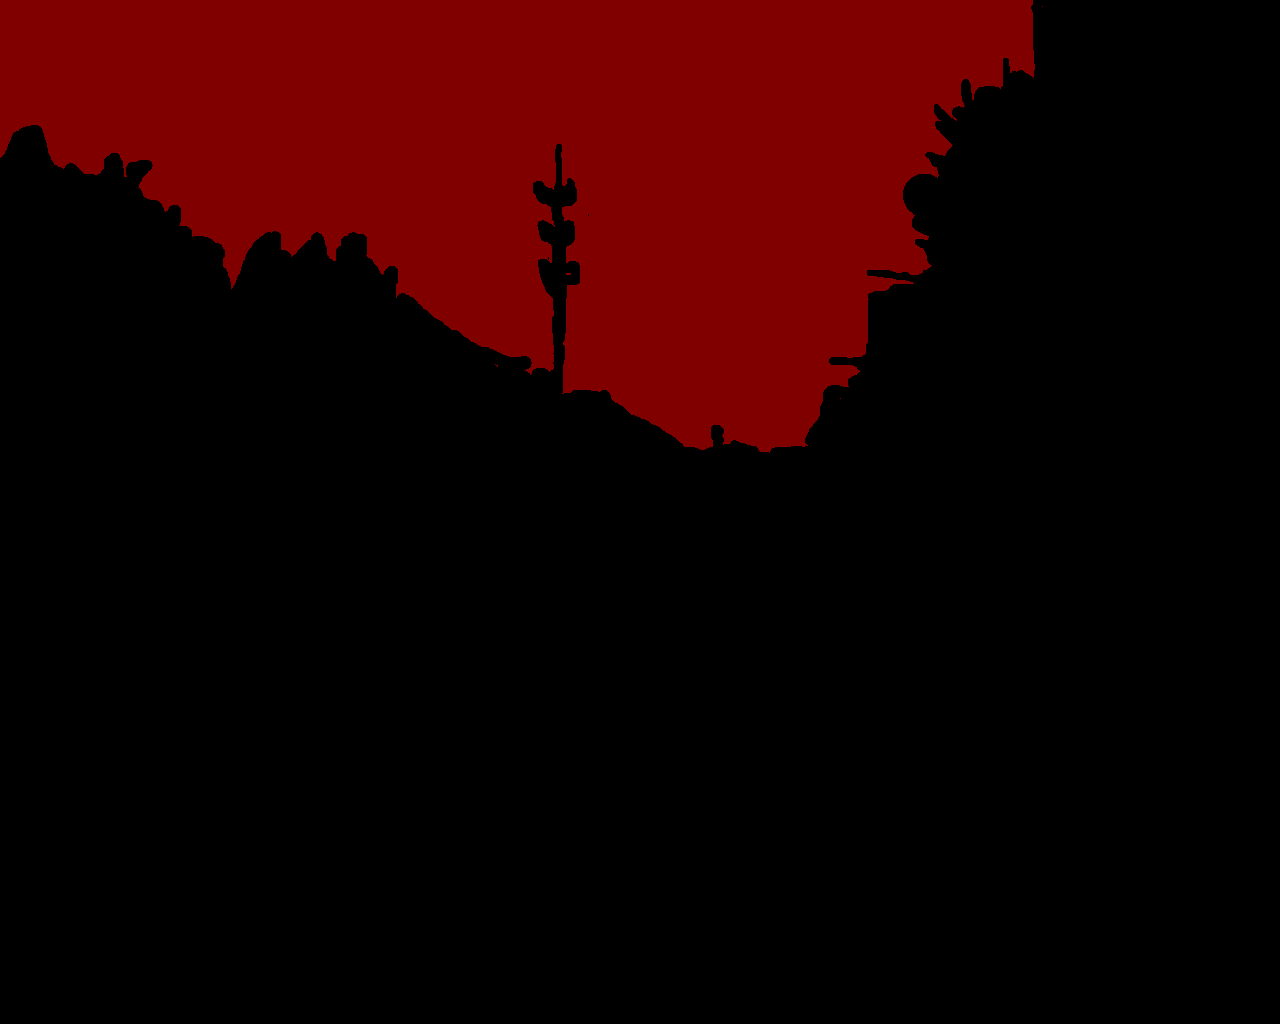Sky: (1, 1, 1042, 453)
